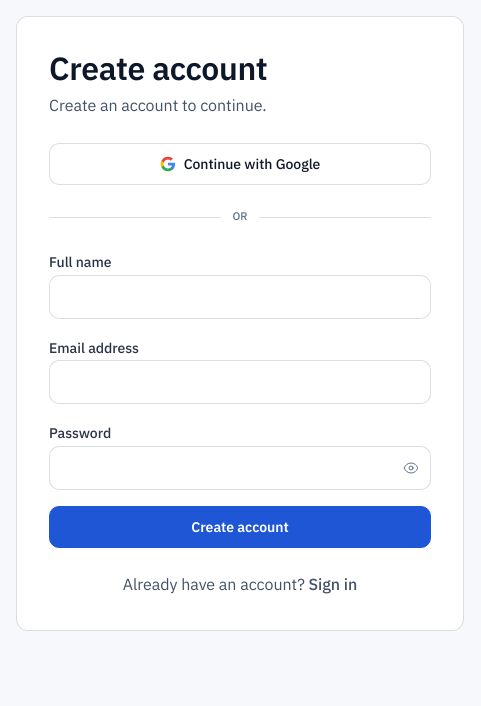
Test: SignupPage › shows backend errors when signup fails
Type "Ada Lovelace" into the field labelled "Full name" at (240, 297), box [49,275,431,319]
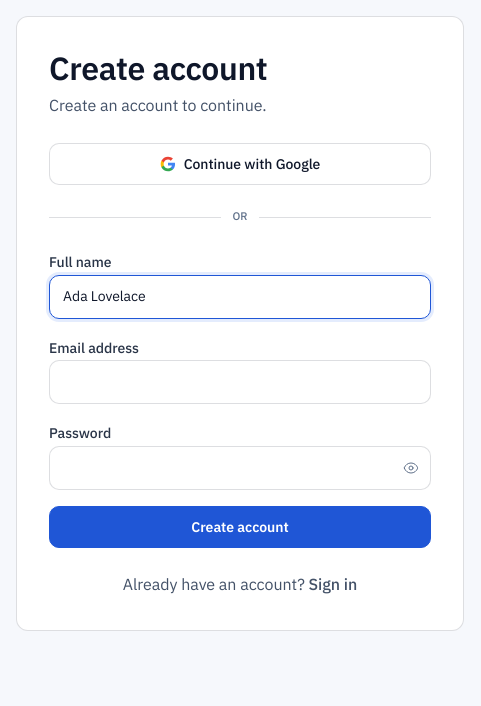
Type "ada@example.edu" into the field labelled "Email address" at (240, 382), box [49,360,431,404]
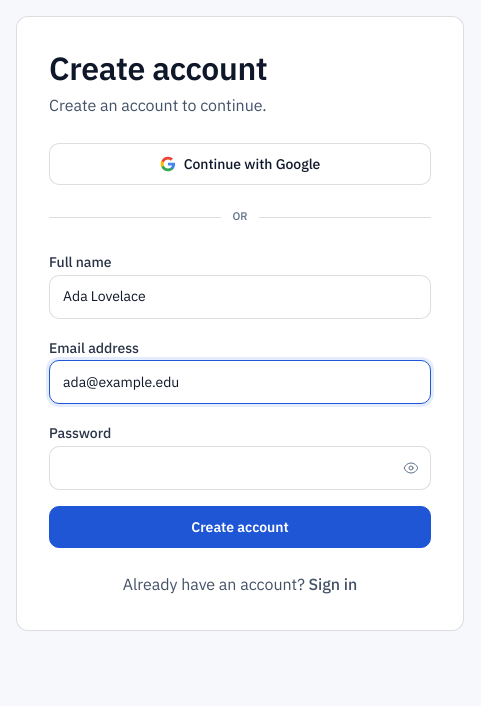
Type "pass1234" into the password field labelled "Password" at (240, 468), box [49,446,431,490]
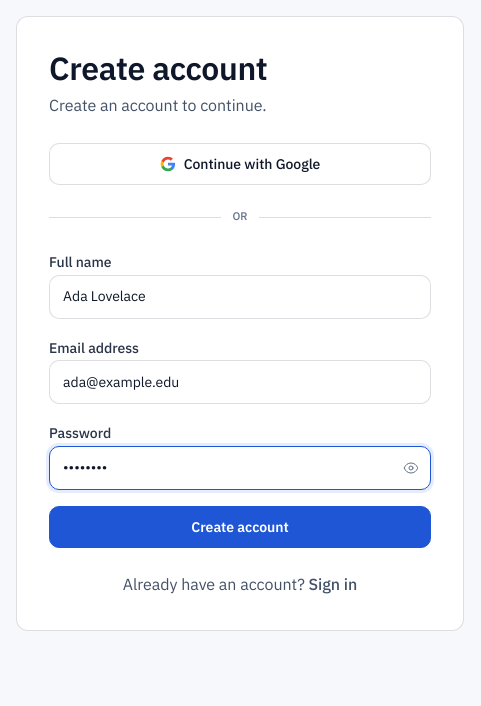
Click the button "Create account" at (240, 527), box [49,506,431,548]
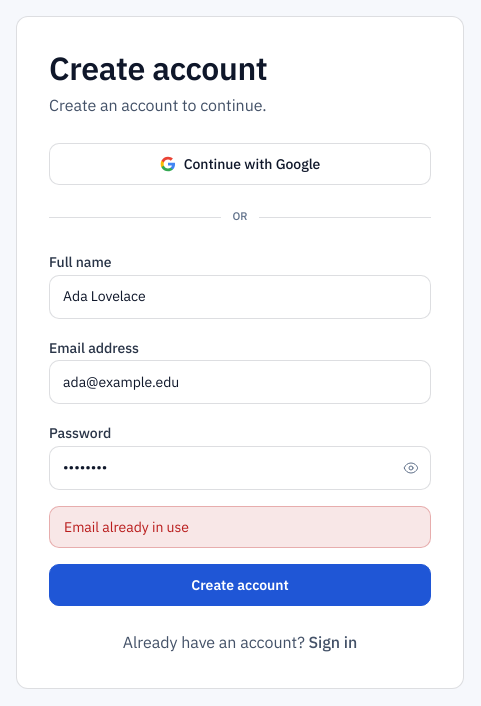
Result: the text "Email already in use" is shown at [49,506,431,548]
